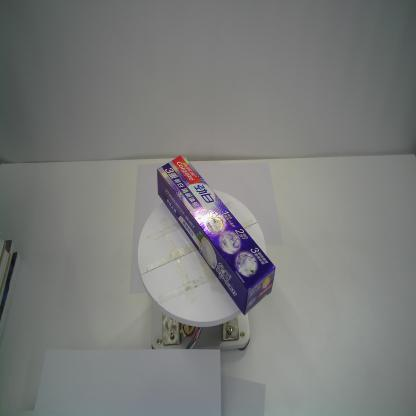Personal Hygiene: (155, 153, 277, 319)
